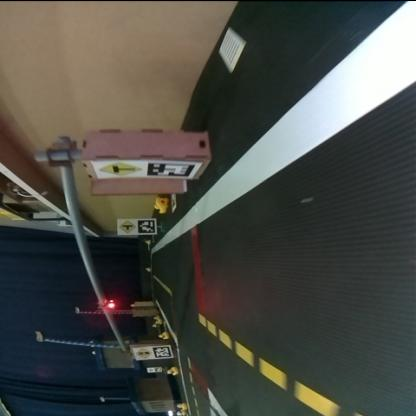Duckie: (153, 197, 167, 213), (167, 366, 177, 376), (158, 331, 170, 339), (178, 404, 186, 410), (154, 318, 162, 324), (144, 240, 152, 245), (146, 266, 152, 272)
Intersection sign: (99, 162, 139, 177), (118, 221, 134, 232)
QR code: (146, 162, 196, 176), (139, 219, 154, 234), (152, 347, 170, 357)
Signal sign: (134, 348, 150, 359)
Traffic light: (95, 301, 116, 311)
